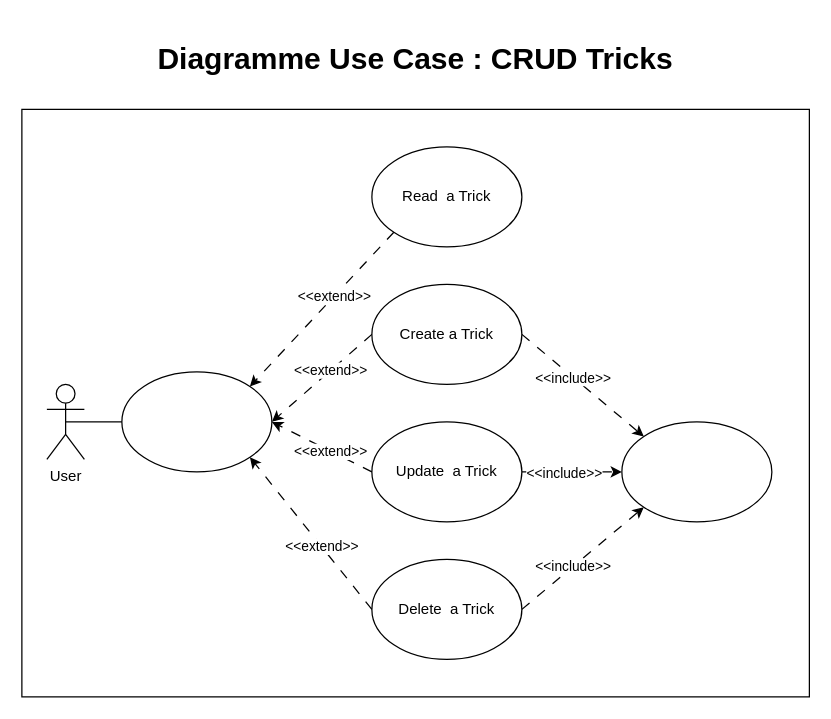
Some shapes in this 831 by 719 pixel diagram are drawn without their labels. Here are the shapes that lost their labels. From the top down, the box of each, then its label:
(121, 371, 272, 472): index Tricks
(621, 421, 772, 522): Authentication
